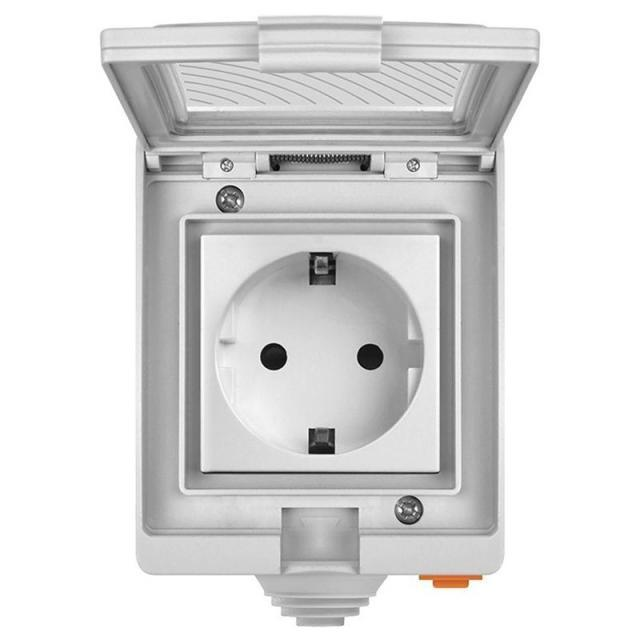typeb: (204, 227, 445, 477)
